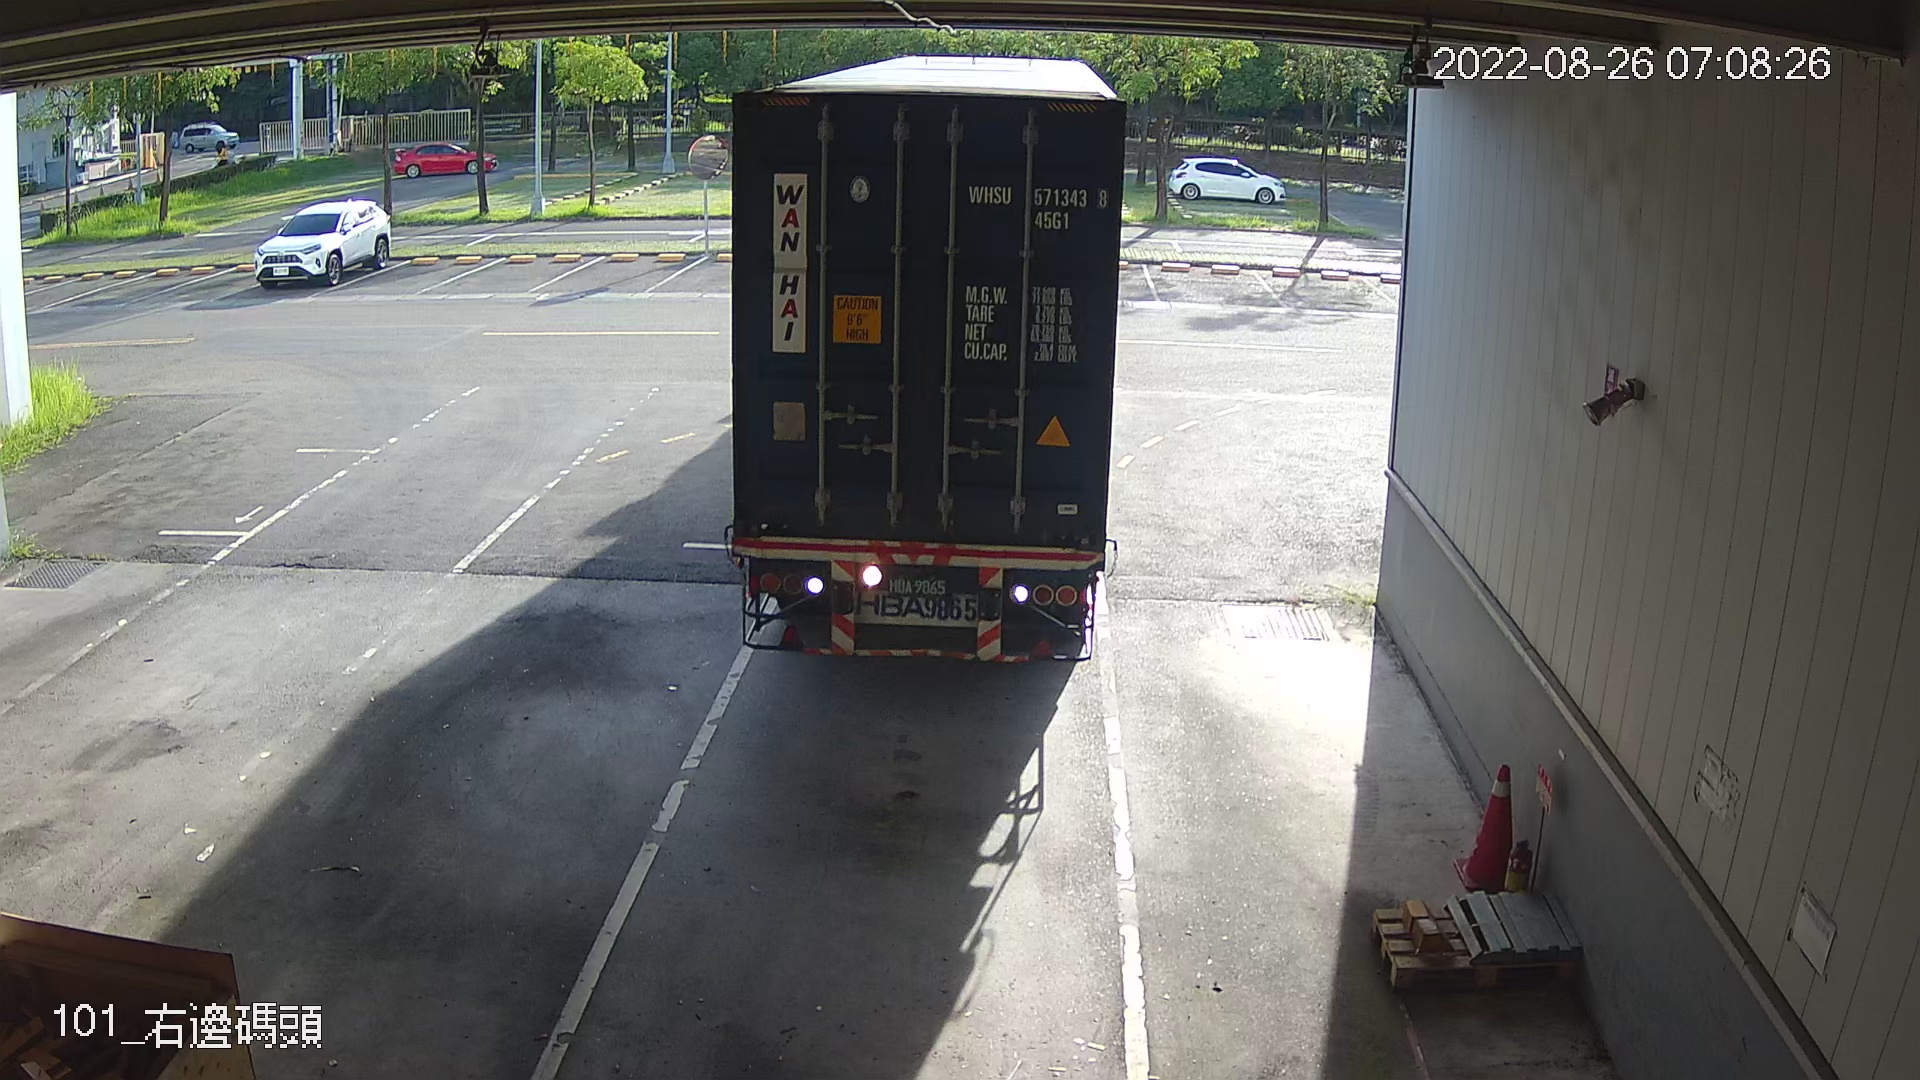container: (959, 174, 1114, 236)
